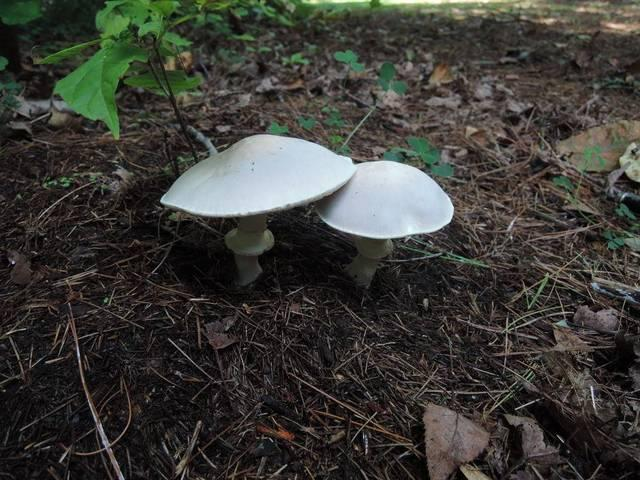poisonous_mushroom: (158, 132, 356, 286), (313, 158, 454, 289)
